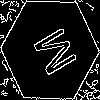M: (25, 25, 79, 83)
